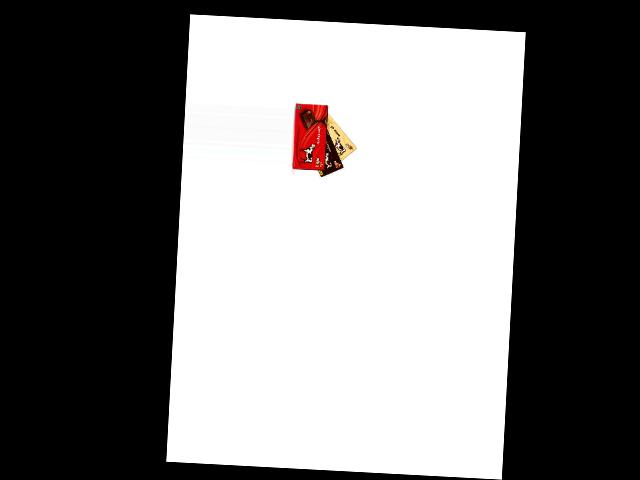chocolate: (318, 106, 359, 169)
